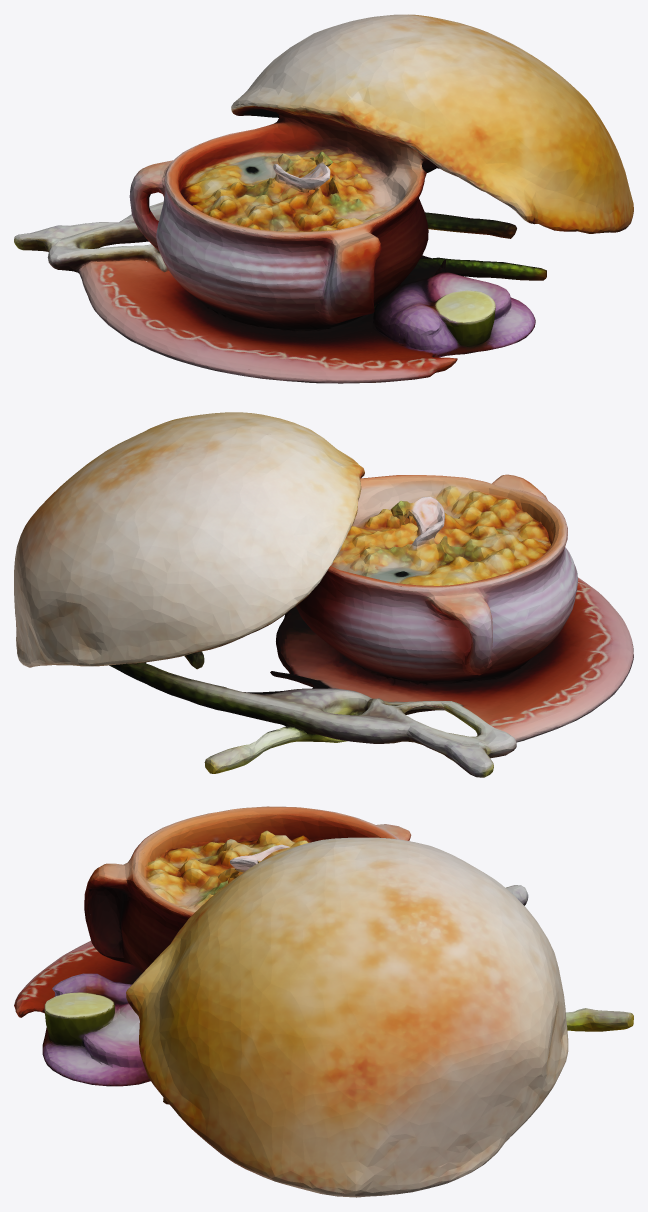
File: Chole_Bhature.glb
3 views of the same model, one above another, from view 1: azimuth 30°, elevation 25°; view 2: azimuth 150°, elevation 25°; view 3: azimuth 270°, elevation 25° (orthographic). The views are drawn at different scales.
Parts seen in each view (by area): view 1: world; view 2: world; view 3: world.
Part boxes in pixels (bbox=[...]): world: bbox=[14, 14, 633, 383]; world: bbox=[14, 412, 633, 777]; world: bbox=[14, 806, 633, 1197].
Bounding box in the file's own units: 0.9967 × 0.3995 × 0.9326.
Materials: 1 (1 with a texture image).
